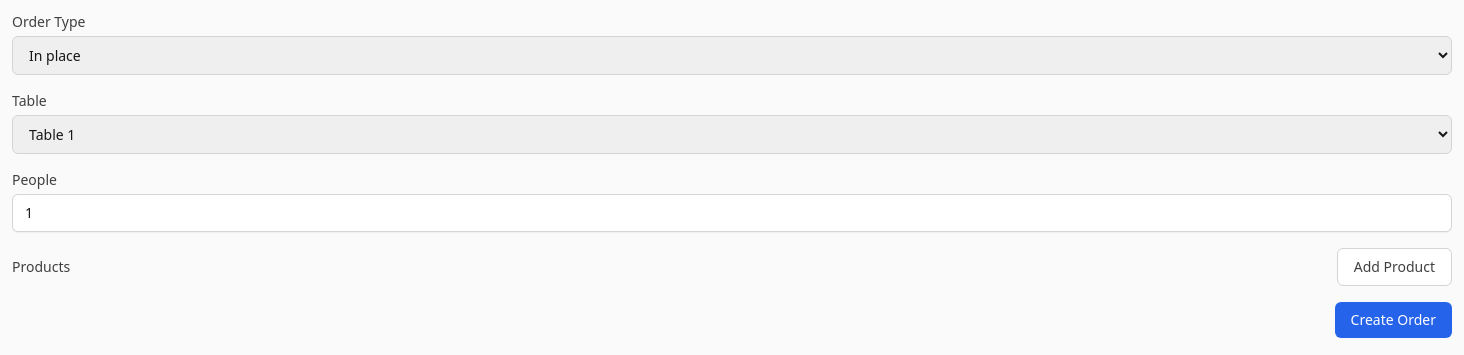
Scenario: CreateOrderForm › hides table selector for take-away orders
Select "Take away" in the dropdown labelled "Order Type" at (732, 56), box [12,36,1452,75]
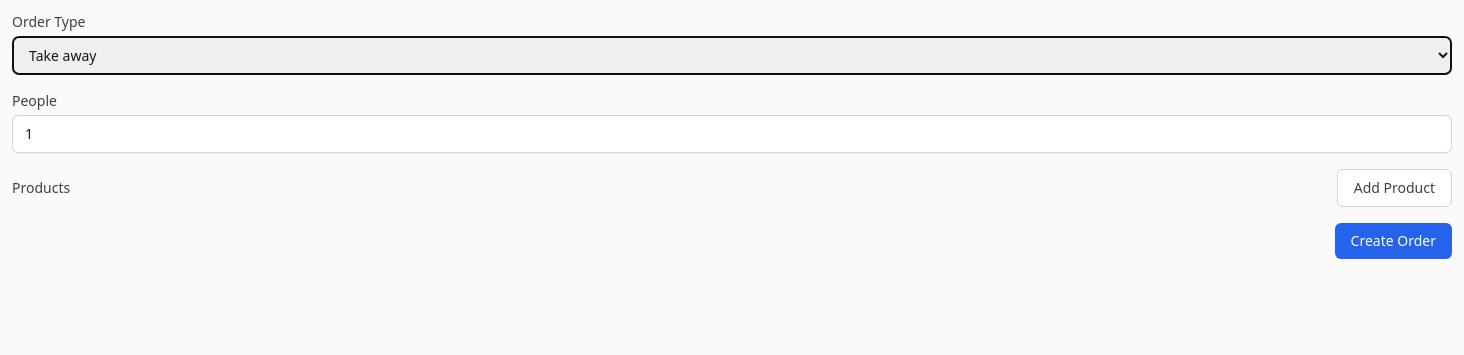
Now the label labelled "Table" is gone
